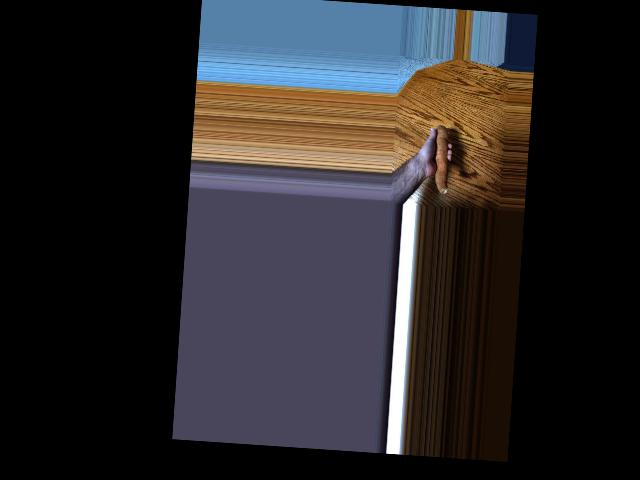sweet_potato: (426, 127, 450, 195)
